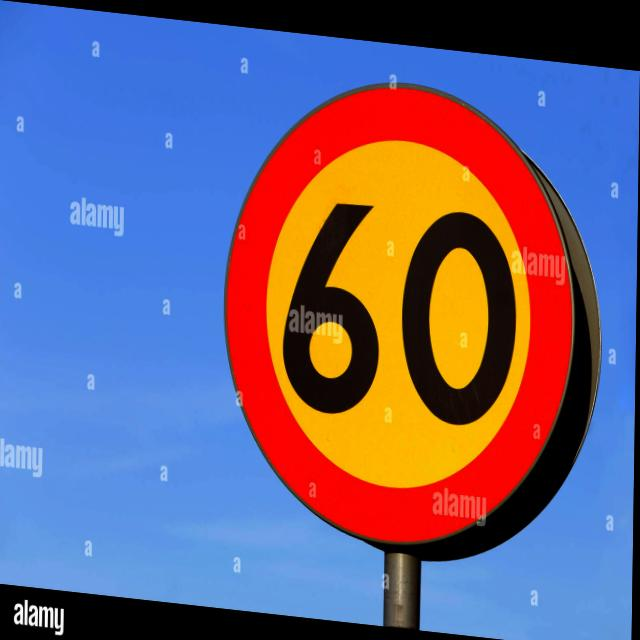SPEED_LIMIT_60: (221, 57, 601, 568)
